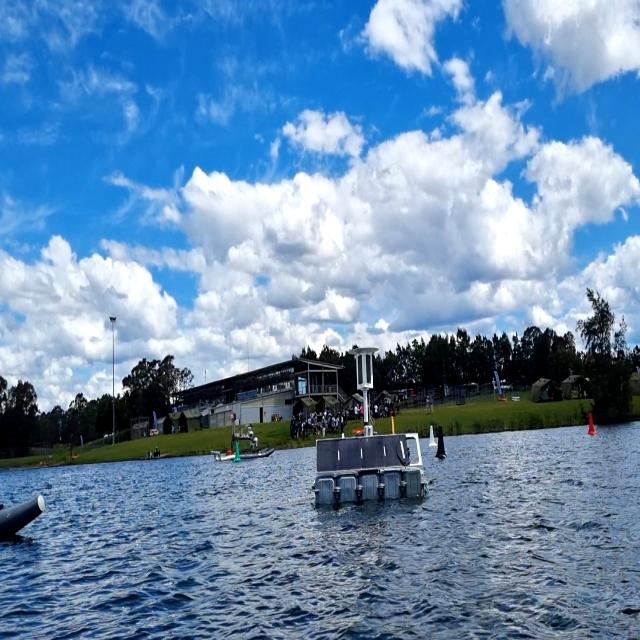led: (364, 354, 372, 386), (357, 354, 364, 385)
